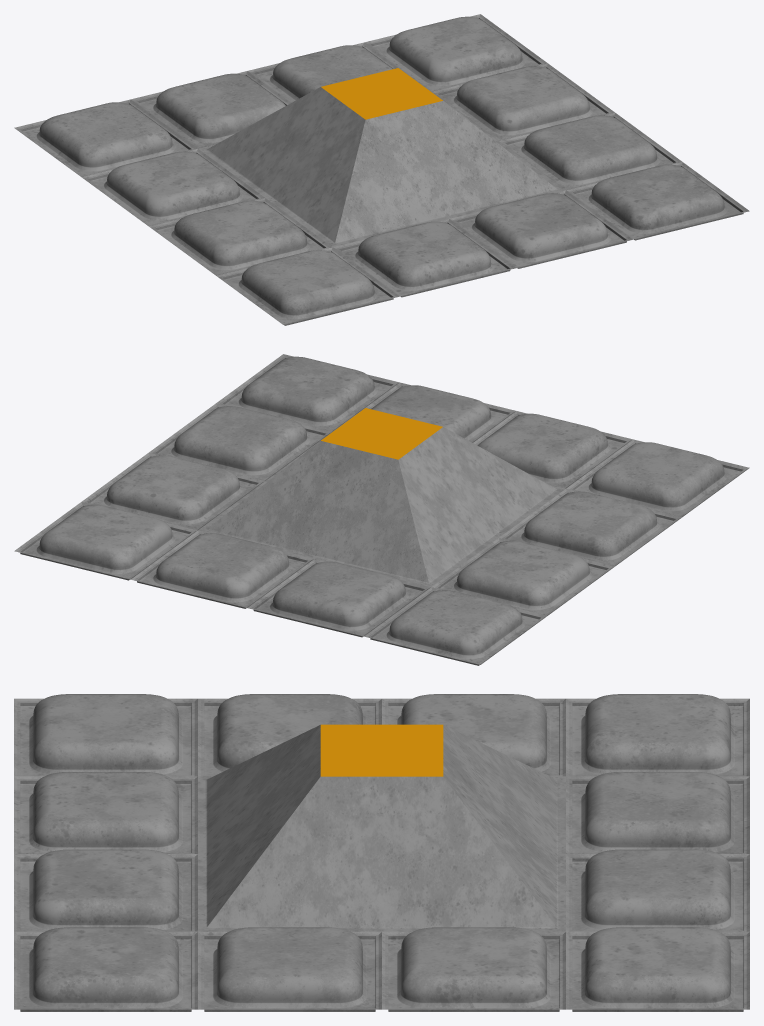
The model's file is SM_Ceiling_02.fbx.
The picture shows the model from 3 angles, top to bottom: view 1: azimuth 30°, elevation 25°; view 2: azimuth 150°, elevation 25°; view 3: azimuth 270°, elevation 25°; orthographic projection. The views are drawn at different scales.
Visible parts, largest first — view 1: SM_Ceiling_02; view 2: SM_Ceiling_02; view 3: SM_Ceiling_02.
Boxes of the visible parts, x1,y1,x2,y2 form: SM_Ceiling_02: [14, 14, 749, 325]; SM_Ceiling_02: [14, 354, 749, 665]; SM_Ceiling_02: [14, 694, 749, 1011].
Size of the model in its own units: 400 by 65.09 by 400.
